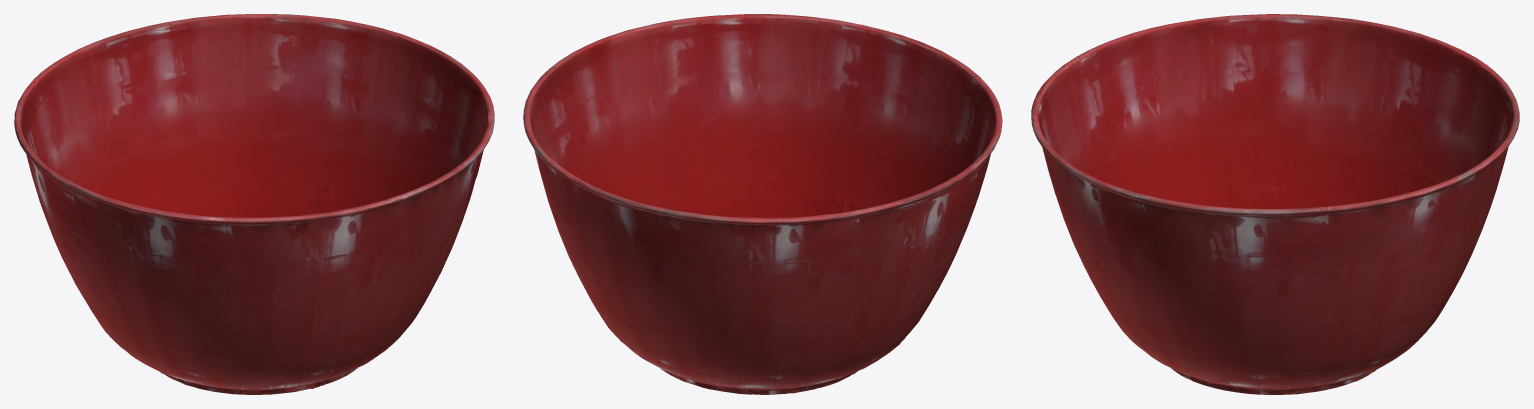
File: Bradshaw_International_11642_7_Qt_MP_Plastic_Bowl.glb
The picture shows the model from 3 angles, left to right: view 1: azimuth 30°, elevation 25°; view 2: azimuth 150°, elevation 25°; view 3: azimuth 270°, elevation 25°; orthographic projection.
Parts seen in each view (by area): view 1: Bradshaw_International_11642_7_Qt_MP_Plastic_Bowl; view 2: Bradshaw_International_11642_7_Qt_MP_Plastic_Bowl; view 3: Bradshaw_International_11642_7_Qt_MP_Plastic_Bowl.
Part boxes in pixels (box(x1,y1,x2,y2)): Bradshaw_International_11642_7_Qt_MP_Plastic_Bowl: box(14, 14, 494, 394); Bradshaw_International_11642_7_Qt_MP_Plastic_Bowl: box(523, 14, 1002, 394); Bradshaw_International_11642_7_Qt_MP_Plastic_Bowl: box(1031, 14, 1519, 394).
Size of the model in its own units: 0.2826 by 0.1545 by 0.2851.
Materials: 1 (1 with a texture image).
